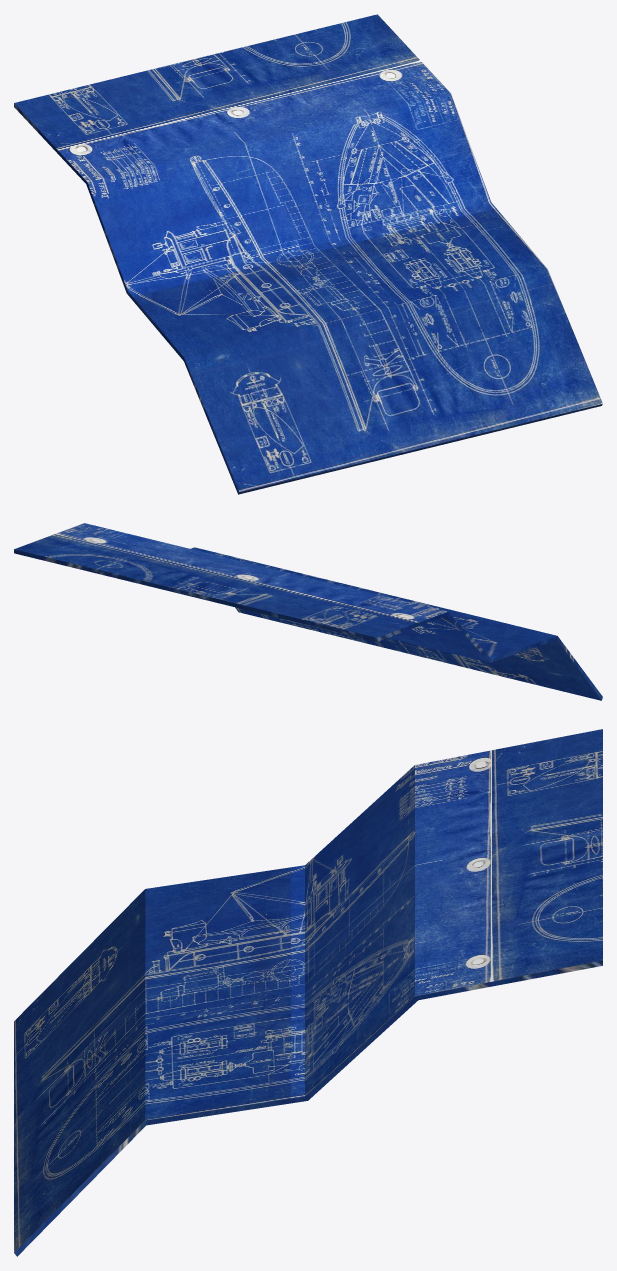
The model's file is blueprintBarca.fbx.
The picture shows the model from 3 angles, top to bottom: view 1: azimuth 30°, elevation 25°; view 2: azimuth 150°, elevation 25°; view 3: azimuth 270°, elevation 25°; orthographic projection. The views are drawn at different scales.
Parts seen in each view (by area): view 1: Plane.007; view 2: Plane.007; view 3: Plane.007.
Boxes of the visible parts, box(x1,y1,x2,y2) form: Plane.007: box(14, 14, 602, 494); Plane.007: box(14, 523, 602, 700); Plane.007: box(14, 729, 602, 1256).
Bounding box in the file's own units: 105 × 61.6 × 111.
